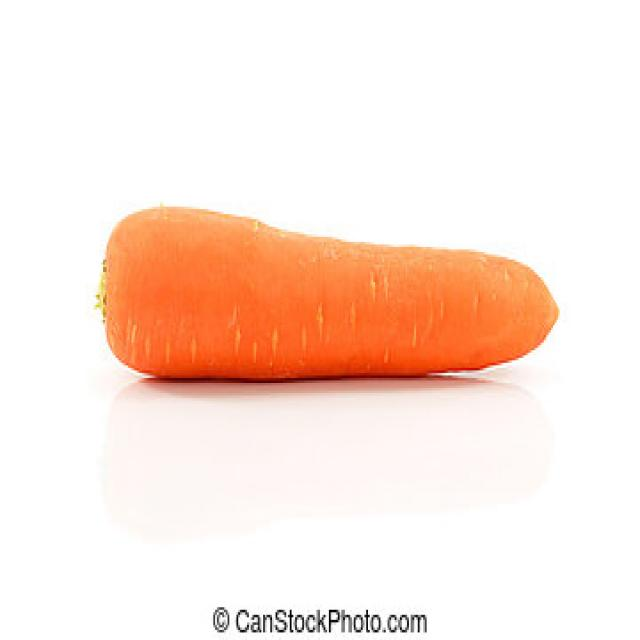Carrot: (100, 212, 560, 371)
